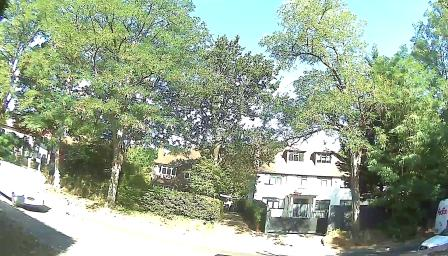Cars: (1, 158, 46, 213)
